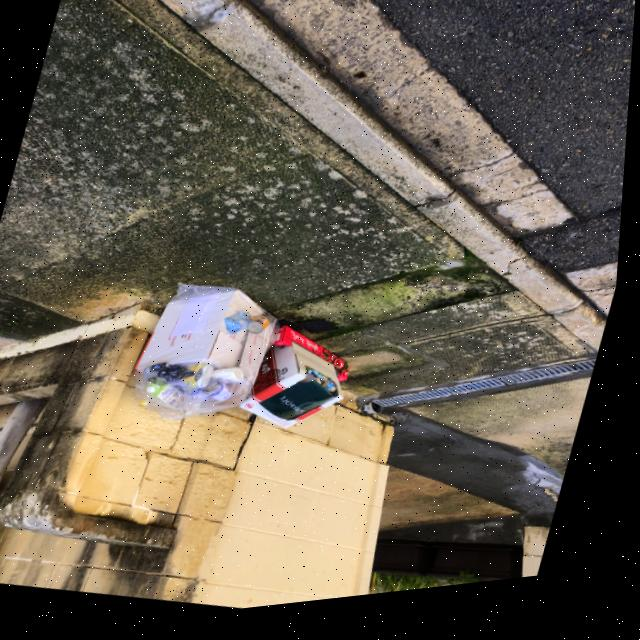Other: (136, 272, 289, 404), (239, 334, 364, 454), (268, 325, 365, 399)
Recycled Waste -Grey or Green Bag-: (122, 269, 299, 449)
